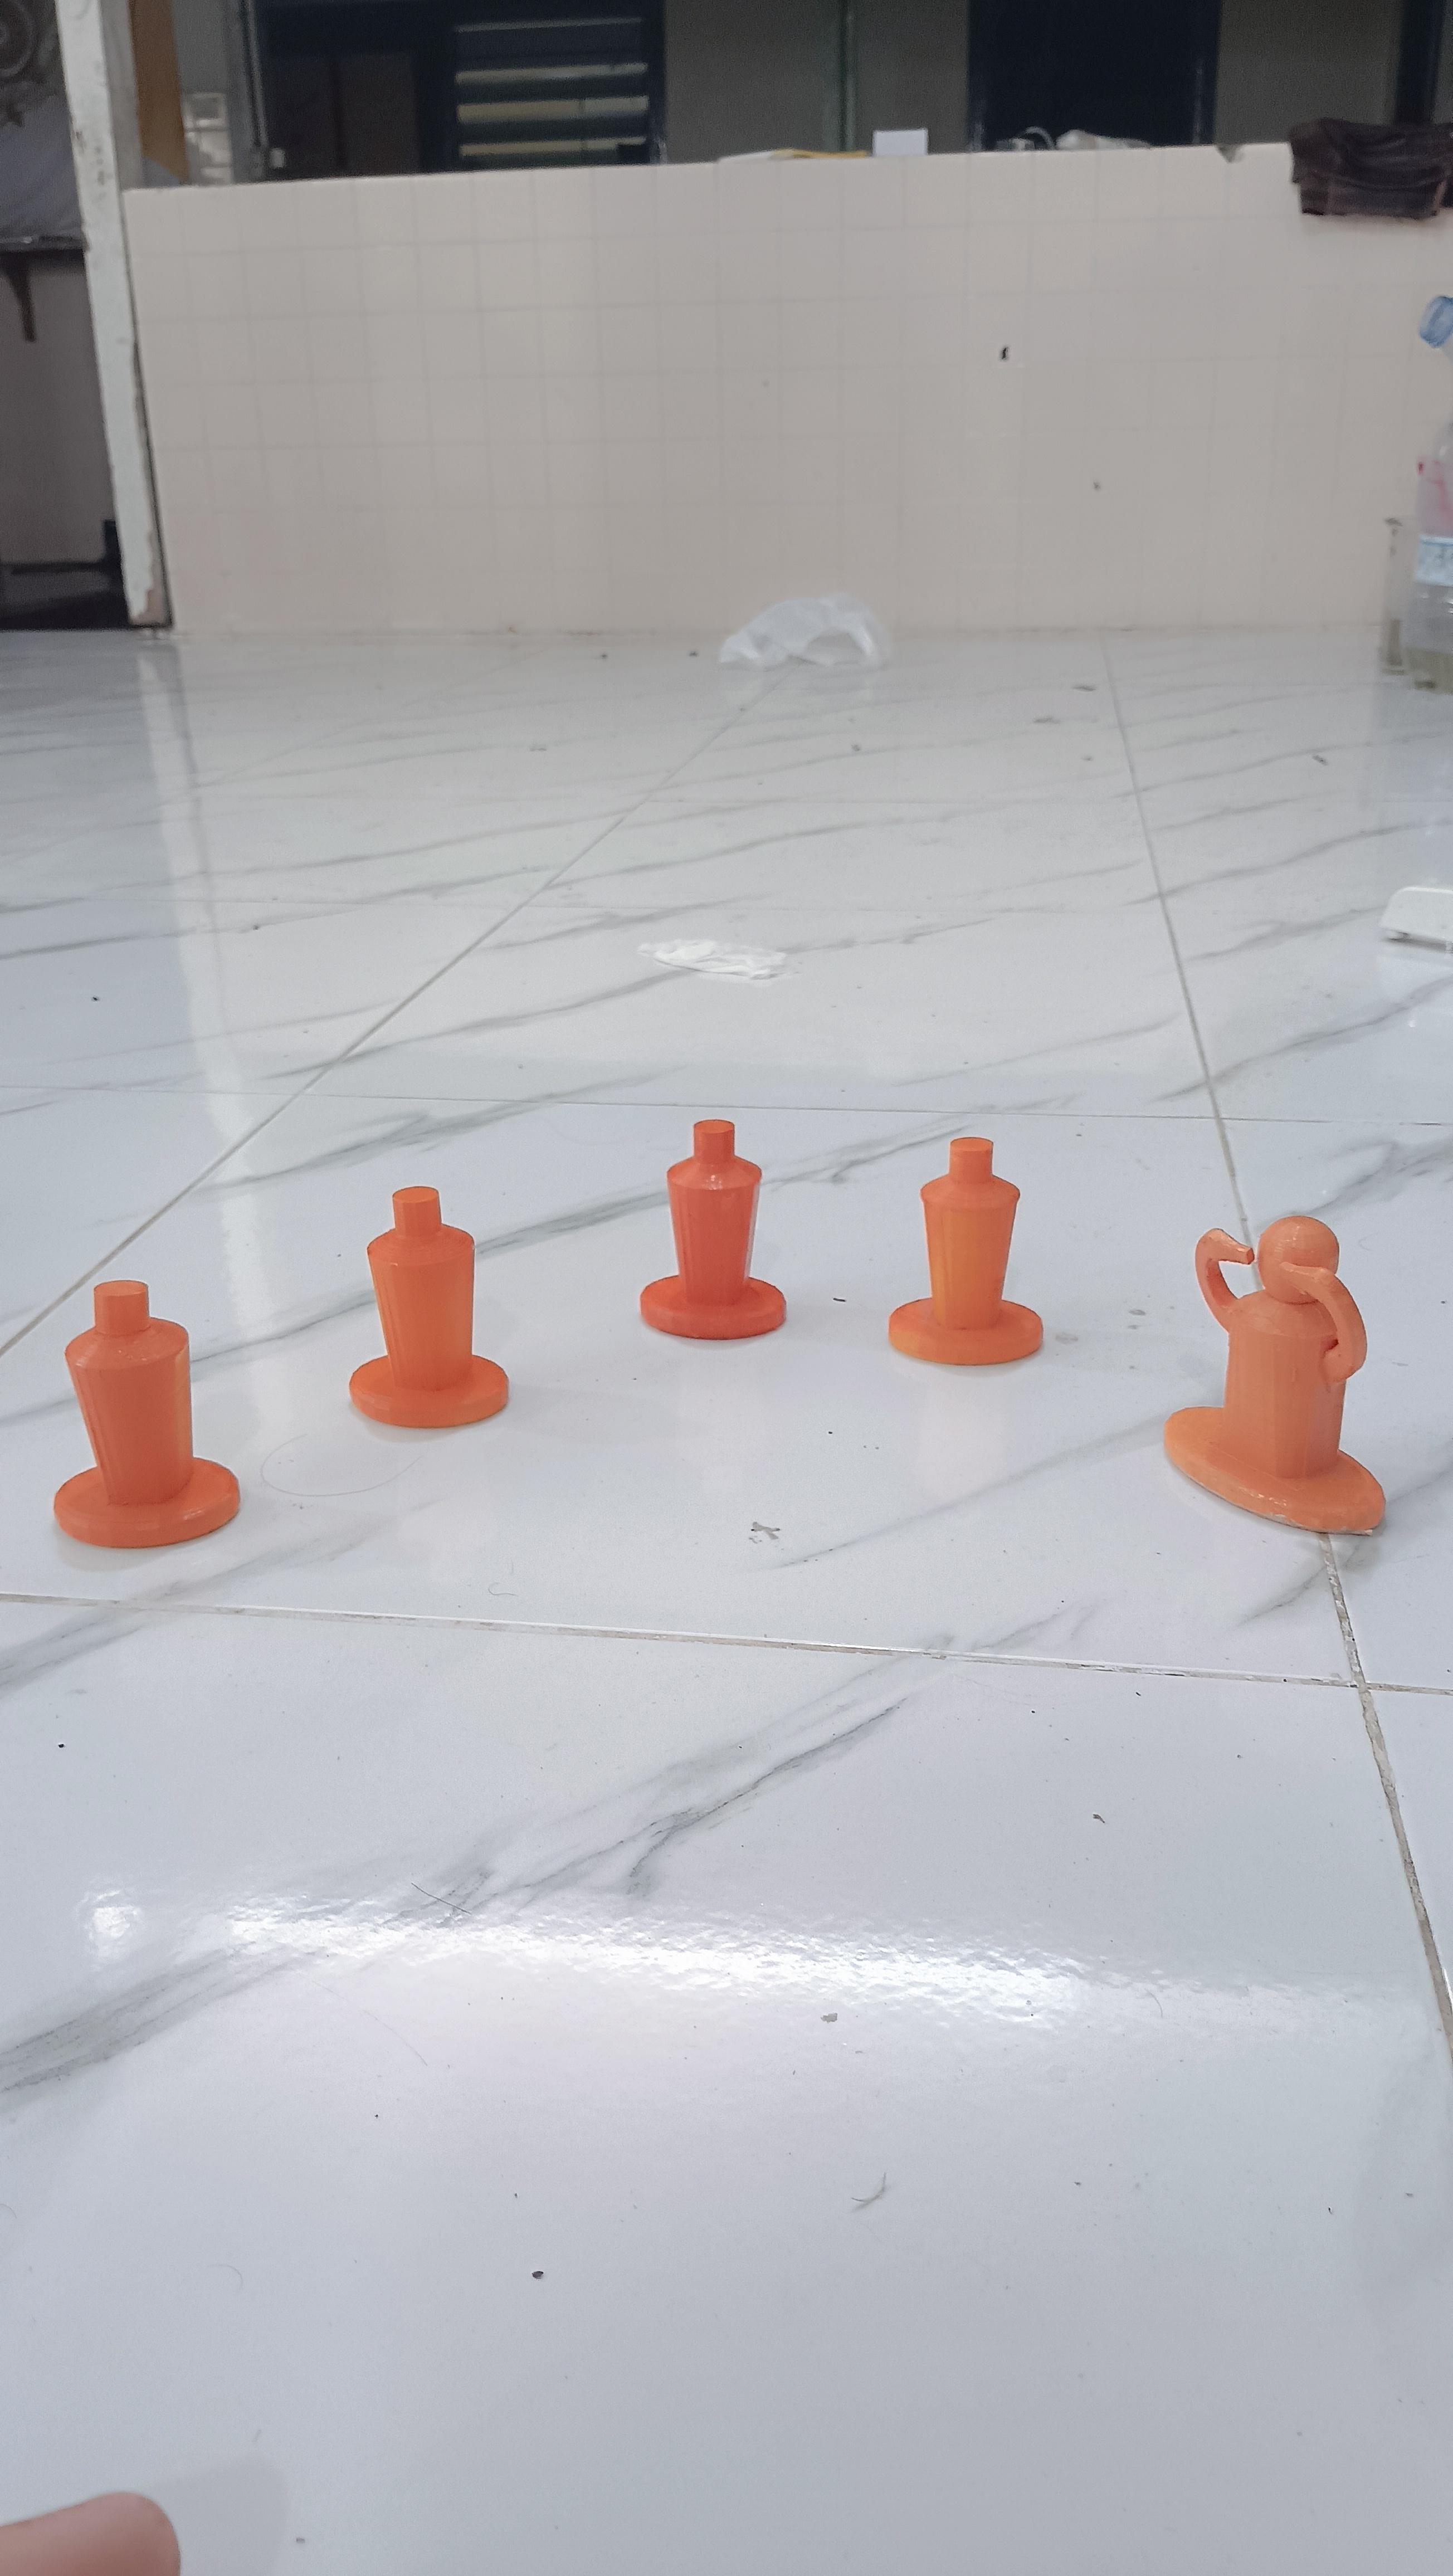dummy: (42, 1273, 251, 1567), (334, 1181, 521, 1443), (883, 1120, 1049, 1383), (630, 1110, 798, 1358)
real_person: (1142, 1175, 1415, 1572)
